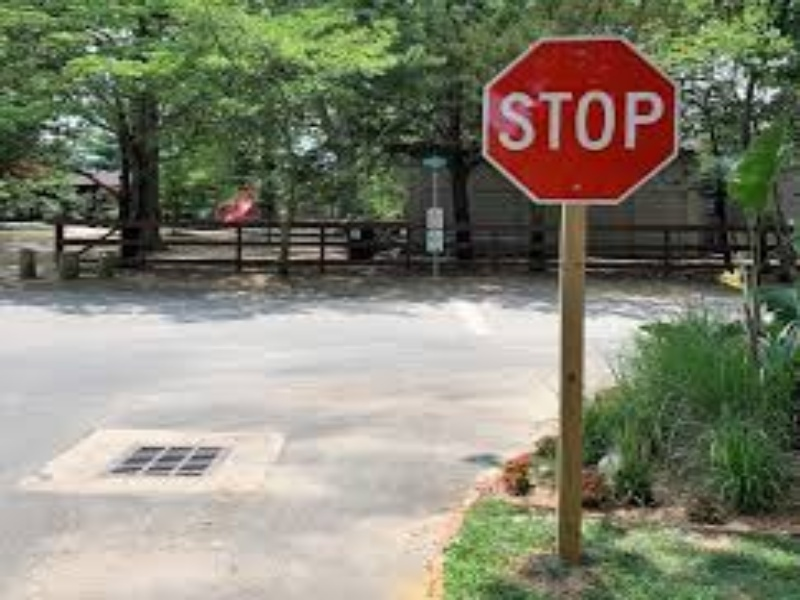Stop_Sign: (483, 34, 679, 204)
